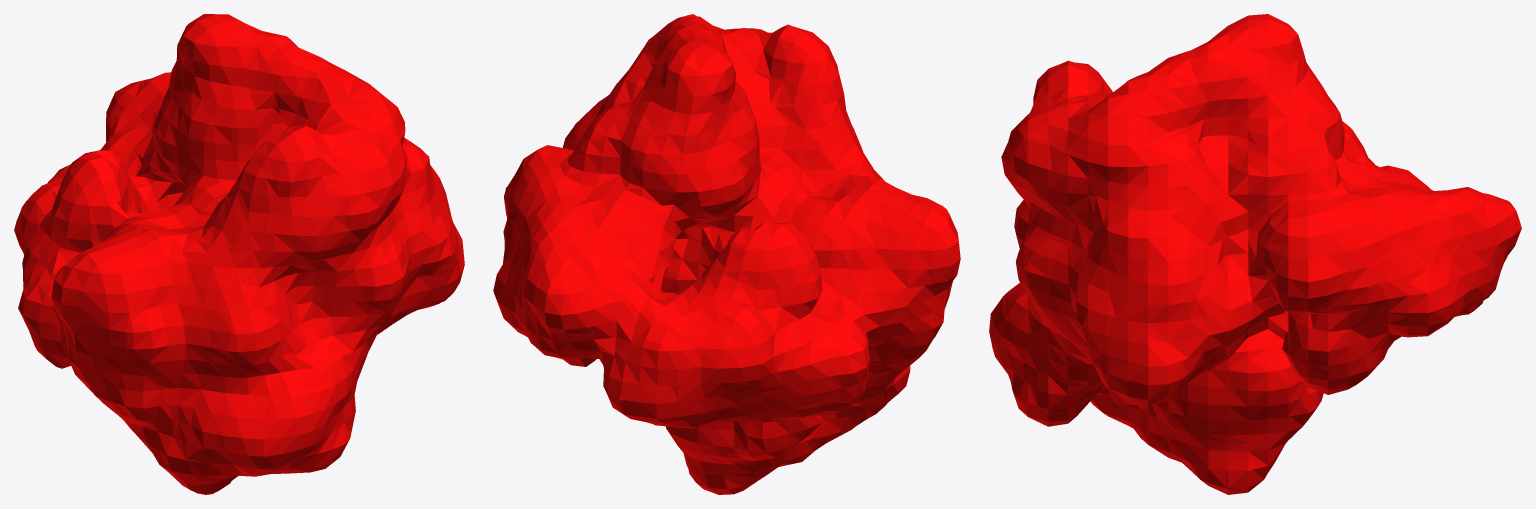
File: ptsI_coarse.dae
The picture shows the model from 3 angles, left to right: view 1: azimuth 30°, elevation 25°; view 2: azimuth 150°, elevation 25°; view 3: azimuth 270°, elevation 25°; orthographic projection. The views are drawn at different scales.
Parts seen in each view (by area): view 1: ptsI; view 2: ptsI; view 3: ptsI.
Boxes of the visible parts, x1=… form: ptsI: x1=14, y1=14, x2=464, y2=494; ptsI: x1=493, y1=14, x2=960, y2=494; ptsI: x1=989, y1=14, x2=1521, y2=494.
Size of the model in its own units: 91.35 by 96.58 by 97.81.
